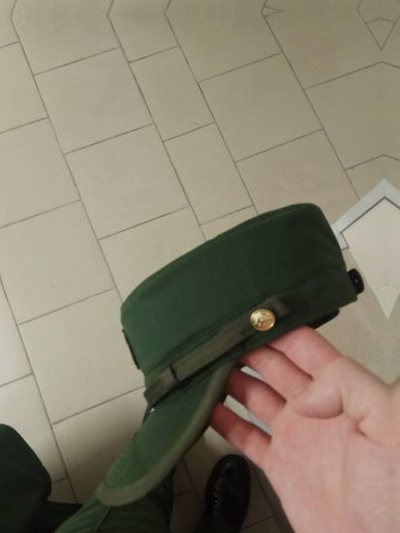Hat: (50, 169, 364, 523)
